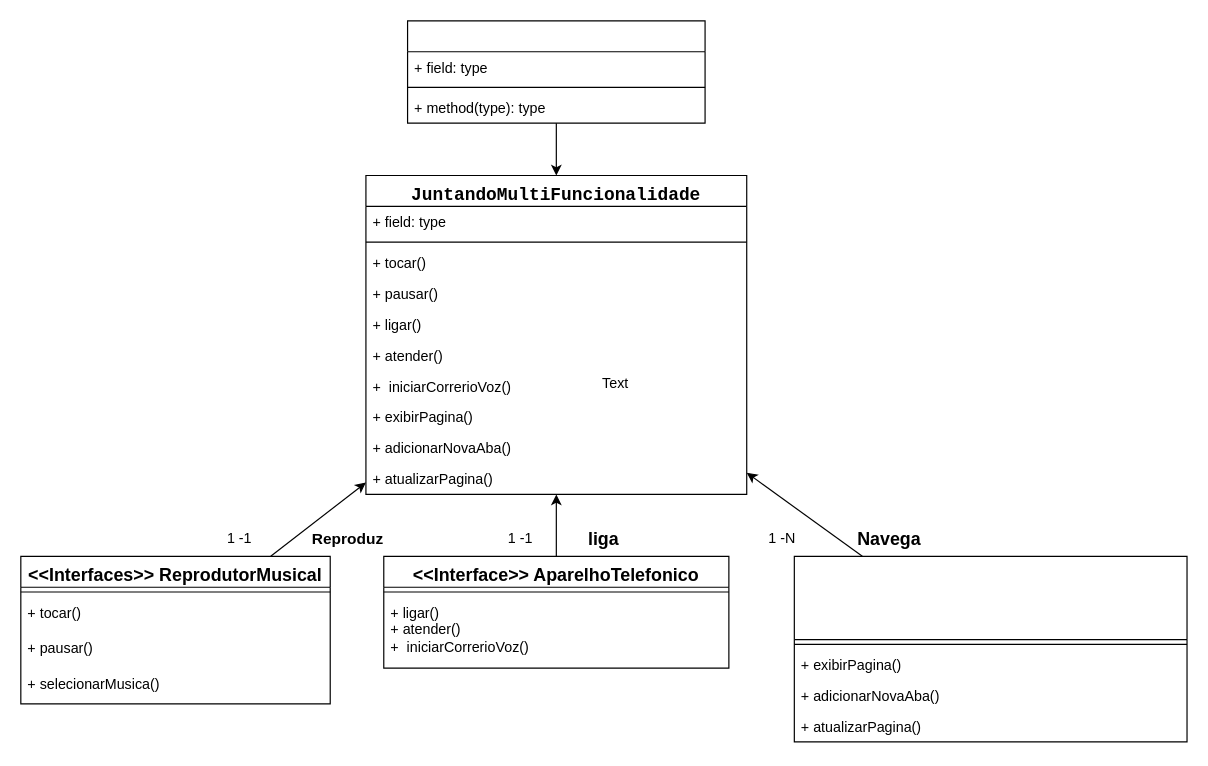
The diagram is 1208 pixels wide and 766 high, and some of its shapes have lost their labels. Each missing label, with the box of its shape:
<<Interface>> NavegadorNa Internet: (793, 555, 1187, 742)
Smartphone: (406, 20, 705, 123)
